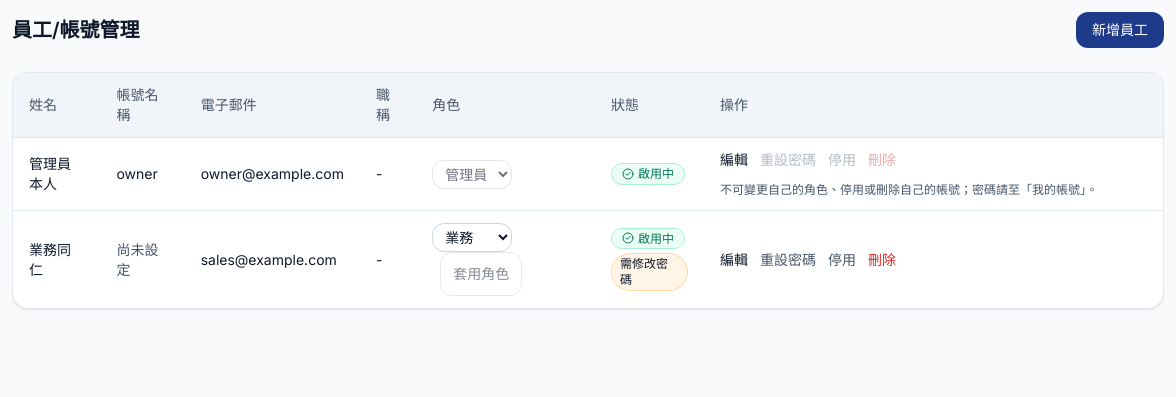
Test: UserList presentation › keeps the password-reset outcome and must-change-password badge
This screenshot has width=1176, height=397.
Expected: the text "業務同仁" is shown, top-left (29, 240), bottom-right (71, 278)
Expected: the text "需修改密碼" is shown, top-left (611, 254), bottom-right (688, 292)
Click the button "重設密碼" in the row of "業務同仁": (788, 260) top-left (760, 250), bottom-right (816, 270)
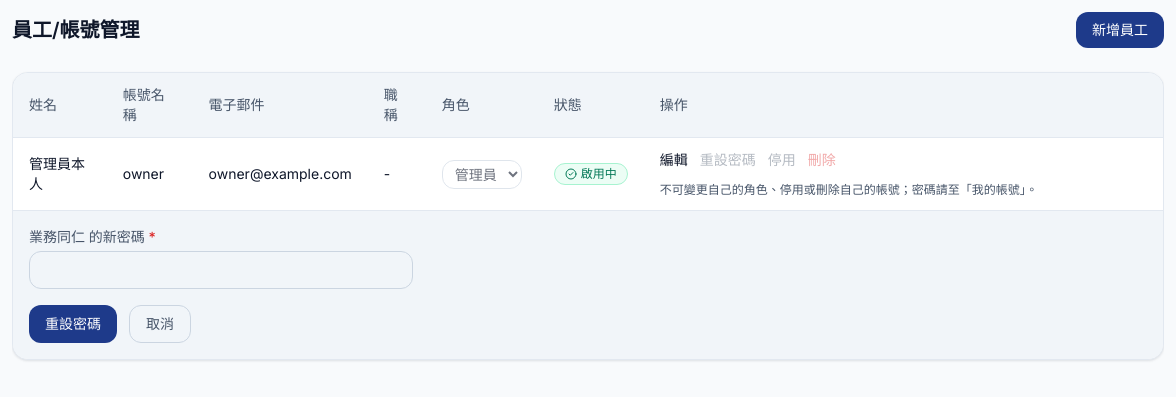
Expected: the password field labelled "業務同仁 的新密碼 *" is shown
In the password field labelled "業務同仁 的新密碼 *": (221, 270) top-left (29, 251), bottom-right (413, 289), type "new-password"
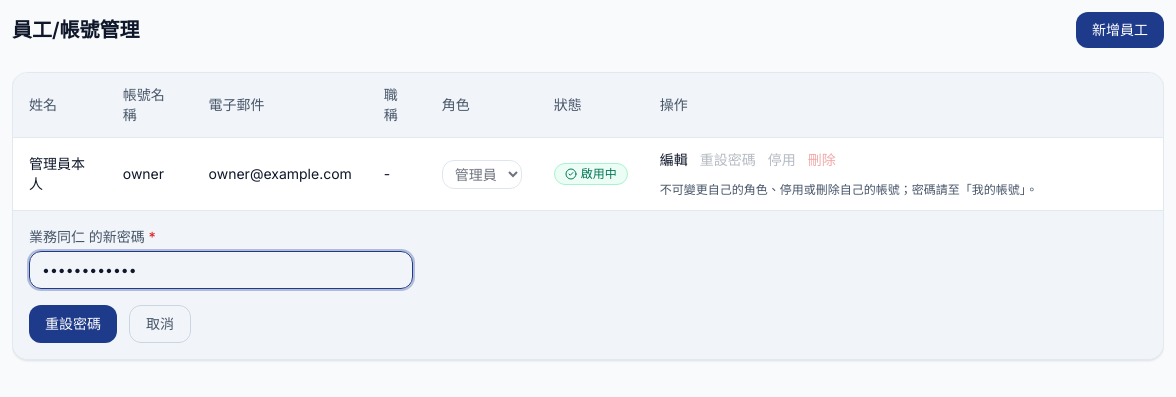
Expected: the form is shown, top-left (29, 228), bottom-right (413, 343)
Click the button "重設密碼" below "業務同仁": (73, 324) top-left (29, 305), bottom-right (117, 343)
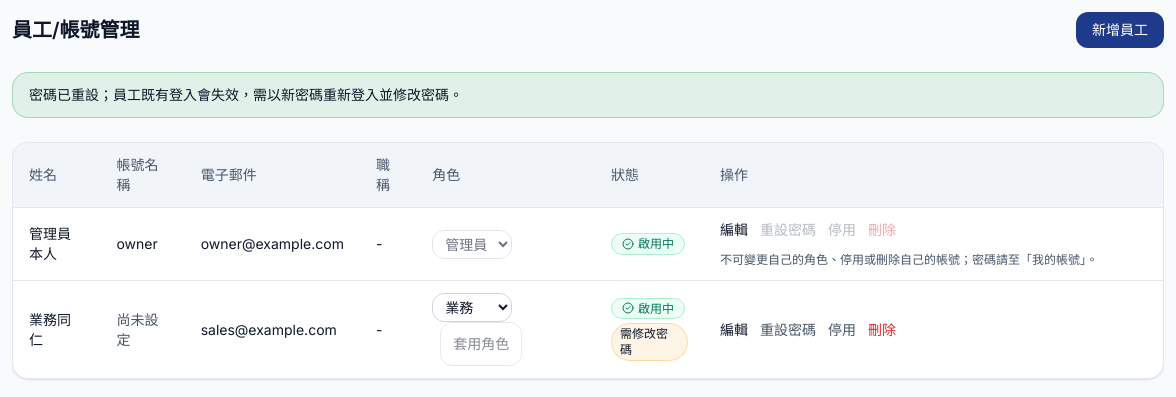
Expected: the text "密碼已重設；員工既有登入會失效，需以新密碼重新登入並修改密碼。" is shown, top-left (12, 72), bottom-right (1164, 118)
